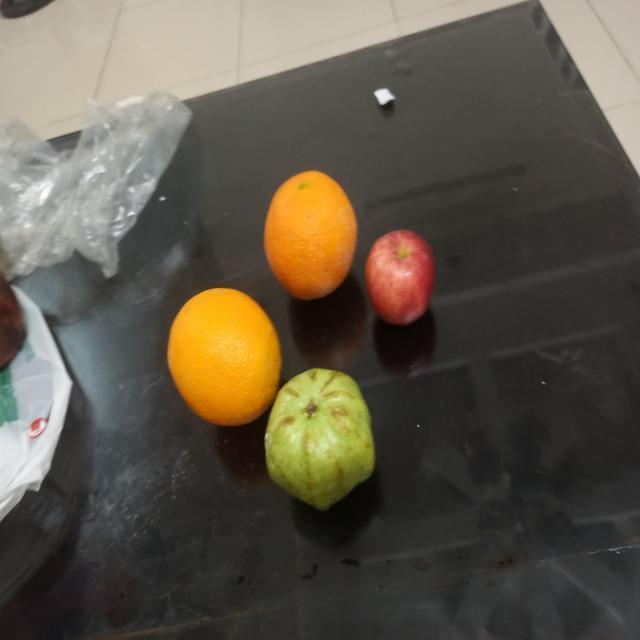apple: (364, 229, 436, 325)
